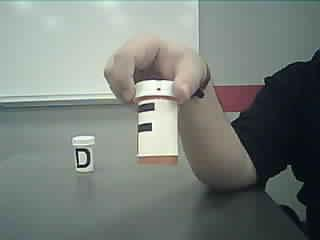Bottle D: (69, 134, 104, 176)
Bottle F: (132, 78, 182, 169)
